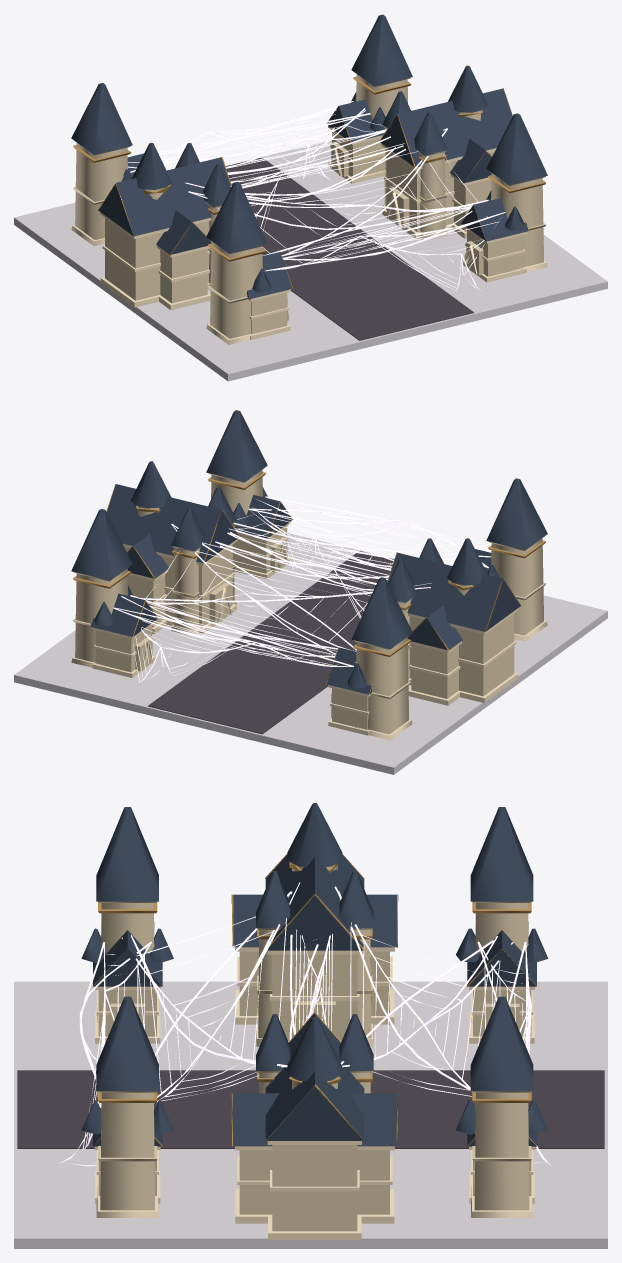
The model's file is clause-net-driftways-far.glb.
3 views of the same model, one above another, from view 1: azimuth 30°, elevation 25°; view 2: azimuth 150°, elevation 25°; view 3: azimuth 270°, elevation 25° (orthographic). The views are drawn at different scales.
Size of the model in its own units: 20.67 by 7.95 by 19.74.
